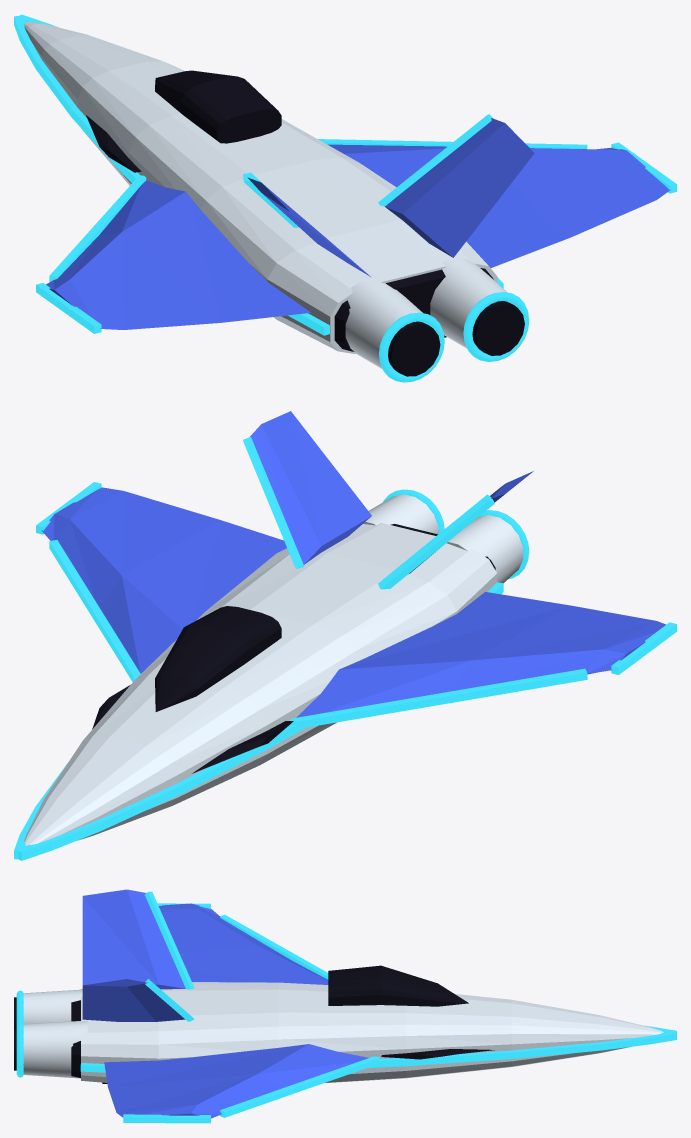
Rendered from player_aurora.glb.
The picture shows the model from 3 angles, top to bottom: view 1: azimuth 30°, elevation 25°; view 2: azimuth 150°, elevation 25°; view 3: azimuth 270°, elevation 25°; orthographic projection. The views are drawn at different scales.
Visible parts, largest first — view 1: fuselage, wing_port, wing_starboard, tail_fin_starboard, canopy_recess, nozzle_housing_port, nozzle_housing_starboard, nozzle_throat_port, nozzle_throat_starboard, aft_plate, nozzle_trim_port, nozzle_trim_starboard (+7 smaller); view 2: fuselage, wing_starboard, wing_port, tail_fin_starboard, canopy_recess, wing_edge_trim_port, nozzle_housing_port, wing_edge_trim_starboard, nozzle_housing_starboard, tail_fin_trim_port, tail_fin_trim_starboard, hull_trim_port_3 (+3 smaller); view 3: fuselage, wing_starboard, tail_fin_port, wing_port, canopy_recess, tail_fin_starboard, nozzle_housing_starboard, nozzle_housing_port, wing_edge_trim_starboard, tail_fin_trim_port, hull_trim_starboard_4, wing_edge_trim_port (+7 smaller).
Part boxes in pixels (<box>): fuselage: <box>24,22,497,353</box>; wing_port: <box>46,180,310,329</box>; wing_starboard: <box>328,144,670,267</box>; tail_fin_starboard: <box>385,118,534,257</box>; canopy_recess: <box>155,70,281,143</box>; nozzle_housing_port: <box>345,278,425,368</box>; nozzle_housing_starboard: <box>430,257,511,348</box>; nozzle_throat_port: <box>388,321,440,376</box>; nozzle_throat_starboard: <box>472,301,524,355</box>; aft_plate: <box>334,268,493,351</box>; nozzle_trim_port: <box>379,312,444,382</box>; nozzle_trim_starboard: <box>463,292,529,361</box>; fuselage: <box>24,523,497,845</box>; wing_starboard: <box>41,487,286,673</box>; wing_port: <box>296,592,666,717</box>; tail_fin_starboard: <box>250,411,371,564</box>; canopy_recess: <box>155,606,281,711</box>; wing_edge_trim_port: <box>289,668,587,729</box>; nozzle_housing_port: <box>446,515,523,583</box>; wing_edge_trim_starboard: <box>49,540,140,681</box>; nozzle_housing_starboard: <box>363,494,438,534</box>; tail_fin_trim_port: <box>378,494,494,589</box>; tail_fin_trim_starboard: <box>243,437,304,568</box>; hull_trim_port_3: <box>97,783,182,830</box>; fuselage: <box>81,982,663,1083</box>; wing_starboard: <box>104,1044,368,1118</box>; tail_fin_port: <box>82,889,185,989</box>; wing_port: <box>159,903,328,984</box>; canopy_recess: <box>328,965,468,1006</box>; tail_fin_starboard: <box>82,979,185,1021</box>; nozzle_housing_starboard: <box>23,1020,87,1078</box>; nozzle_housing_port: <box>23,989,82,1024</box>; wing_edge_trim_starboard: <box>219,1056,380,1117</box>; tail_fin_trim_port: <box>144,891,194,989</box>; hull_trim_starboard_4: <box>406,1050,512,1065</box>; wing_edge_trim_port: <box>220,914,328,979</box>.
Size of the model in its own units: 7.17 by 2.19 by 9.39.
